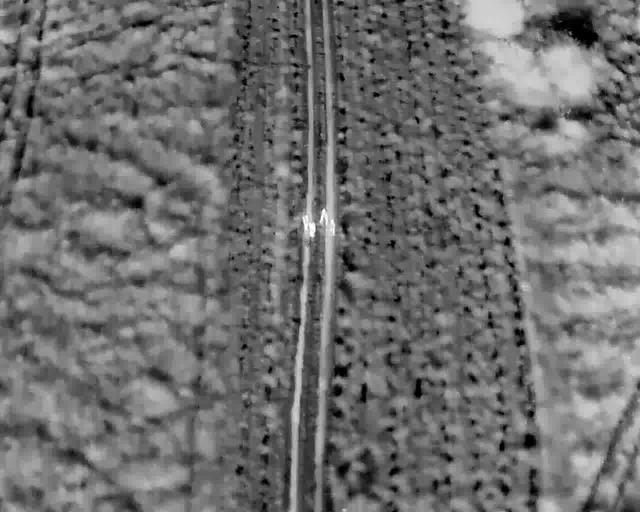person: (326, 217, 337, 237), (307, 219, 318, 239), (301, 213, 311, 234), (318, 207, 329, 225)
